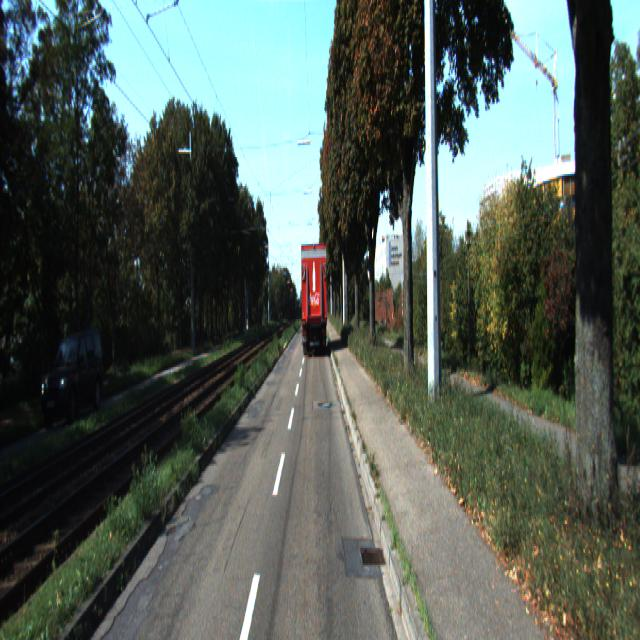Car: (40, 326, 107, 428), (300, 244, 329, 362)
